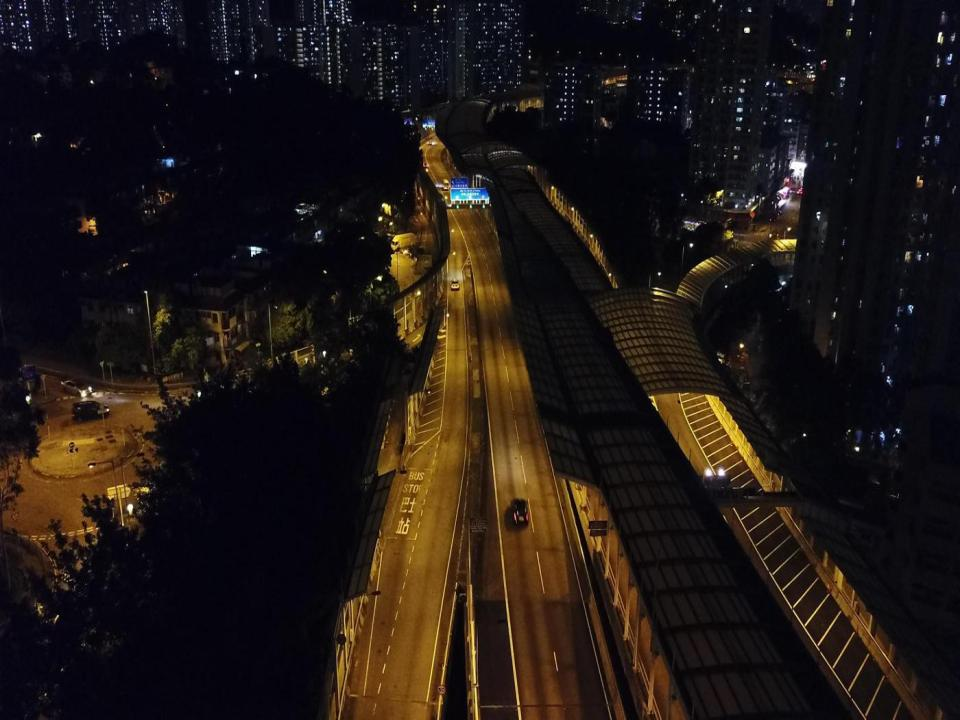car: (70, 399, 110, 423), (60, 376, 92, 397), (511, 497, 529, 525), (449, 276, 460, 290), (422, 162, 428, 168), (427, 140, 432, 145)
van: (390, 232, 416, 252), (442, 178, 449, 190)
